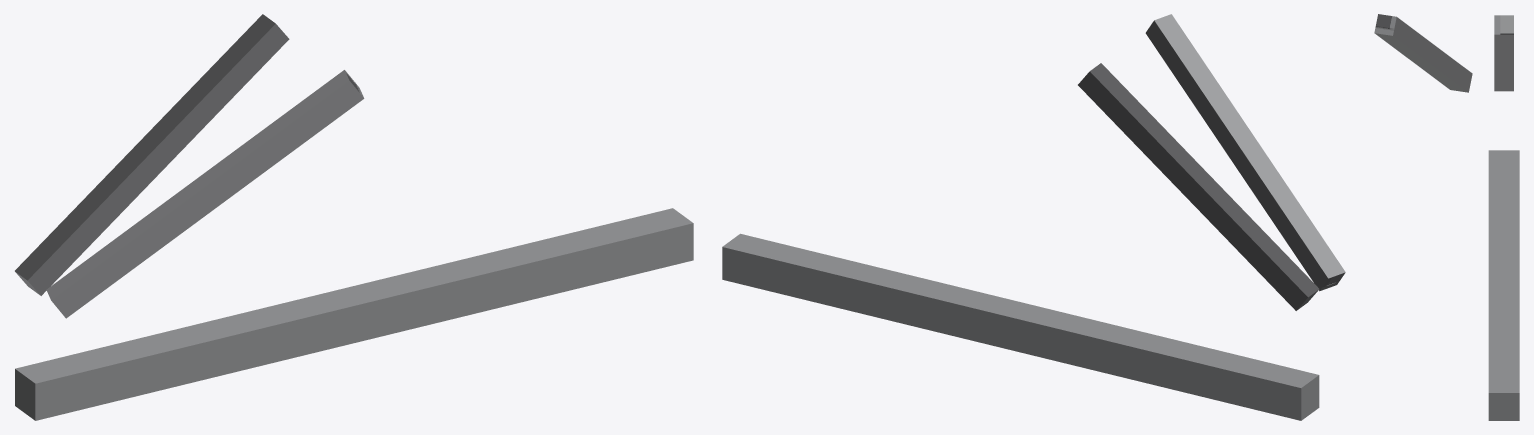
3 renders of one model, left to right at view 1: azimuth 30°, elevation 25°; view 2: azimuth 150°, elevation 25°; view 3: azimuth 270°, elevation 25°, orthographic. The views are drawn at different scales.
Bounding box in the file's own units: 1.03 × 0.4948 × 0.2573.
